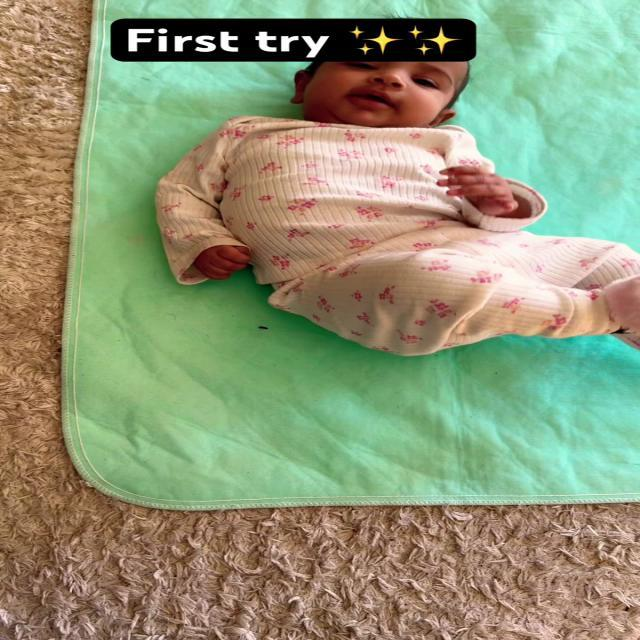baby: (142, 30, 640, 357)
